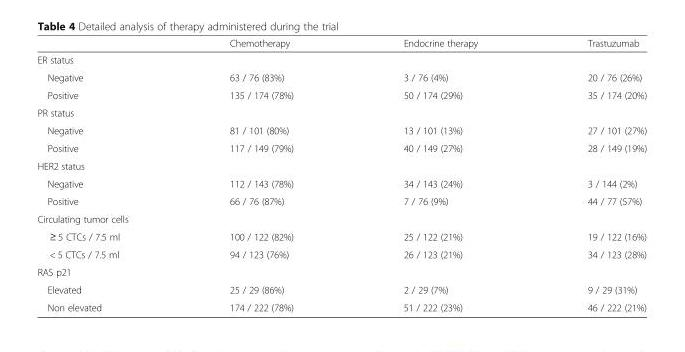table: (36, 37, 646, 312)
table column: (347, 37, 532, 312), (174, 37, 347, 312), (36, 37, 174, 312), (532, 37, 646, 312)
table column header: (36, 37, 646, 51)
table projected row header: (36, 103, 646, 121), (36, 156, 646, 174), (36, 209, 646, 227), (36, 262, 646, 280), (36, 51, 646, 68)
table row: (36, 85, 646, 103), (36, 103, 646, 121), (36, 121, 646, 139), (36, 156, 646, 174), (36, 174, 646, 192), (36, 209, 646, 227), (36, 227, 646, 245), (36, 262, 646, 280), (36, 280, 646, 298), (36, 51, 646, 68), (36, 68, 646, 85), (36, 139, 646, 156), (36, 192, 646, 209), (36, 245, 646, 262), (36, 37, 646, 51), (36, 298, 646, 312)
